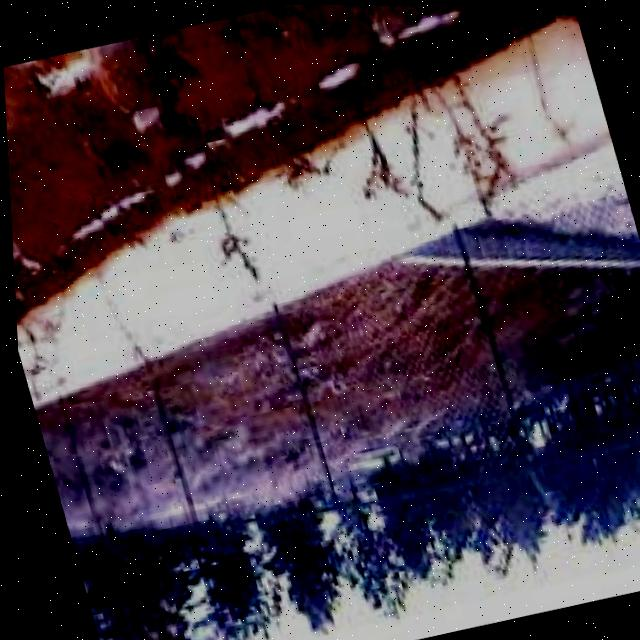Fire: (21, 39, 136, 134)
